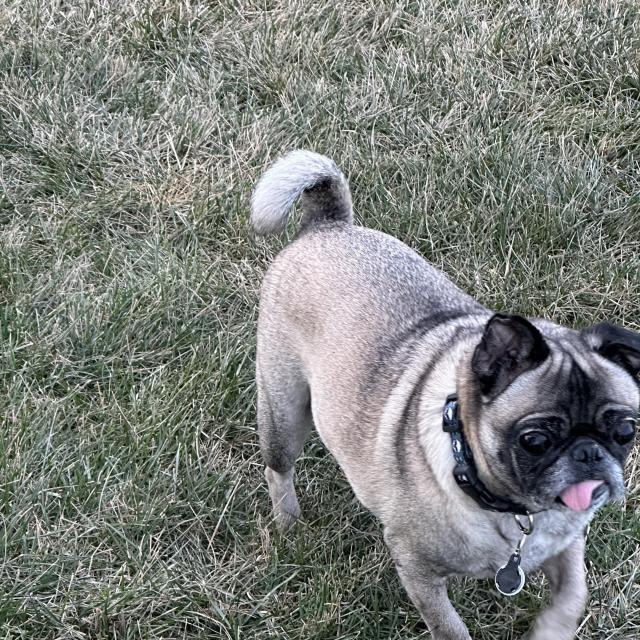pug_dog: (453, 301, 640, 534)
